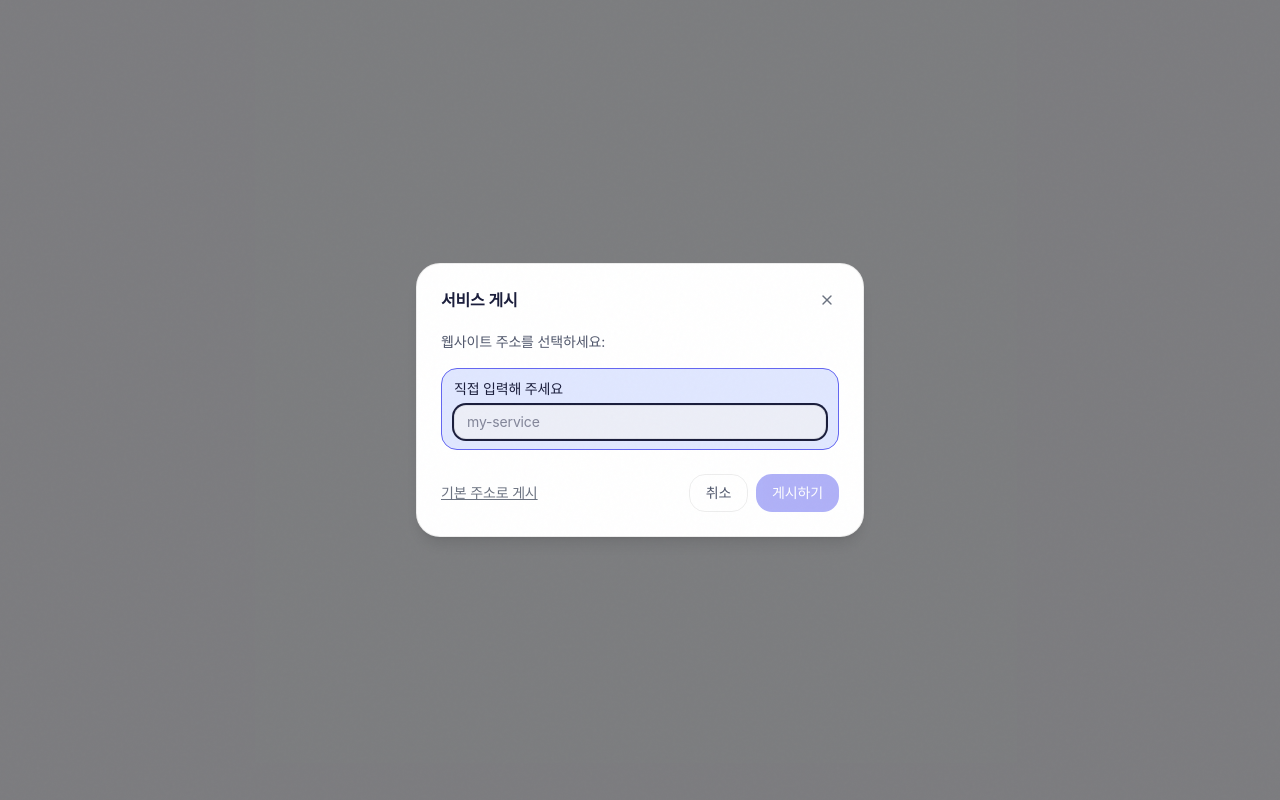
Test: PublishDialog › 게시 실패 › 재시도가 성공하면 이전 에러 문구가 사라진다
Click the button "기본 주소로 게시": (489, 493) [441,483,538,503]
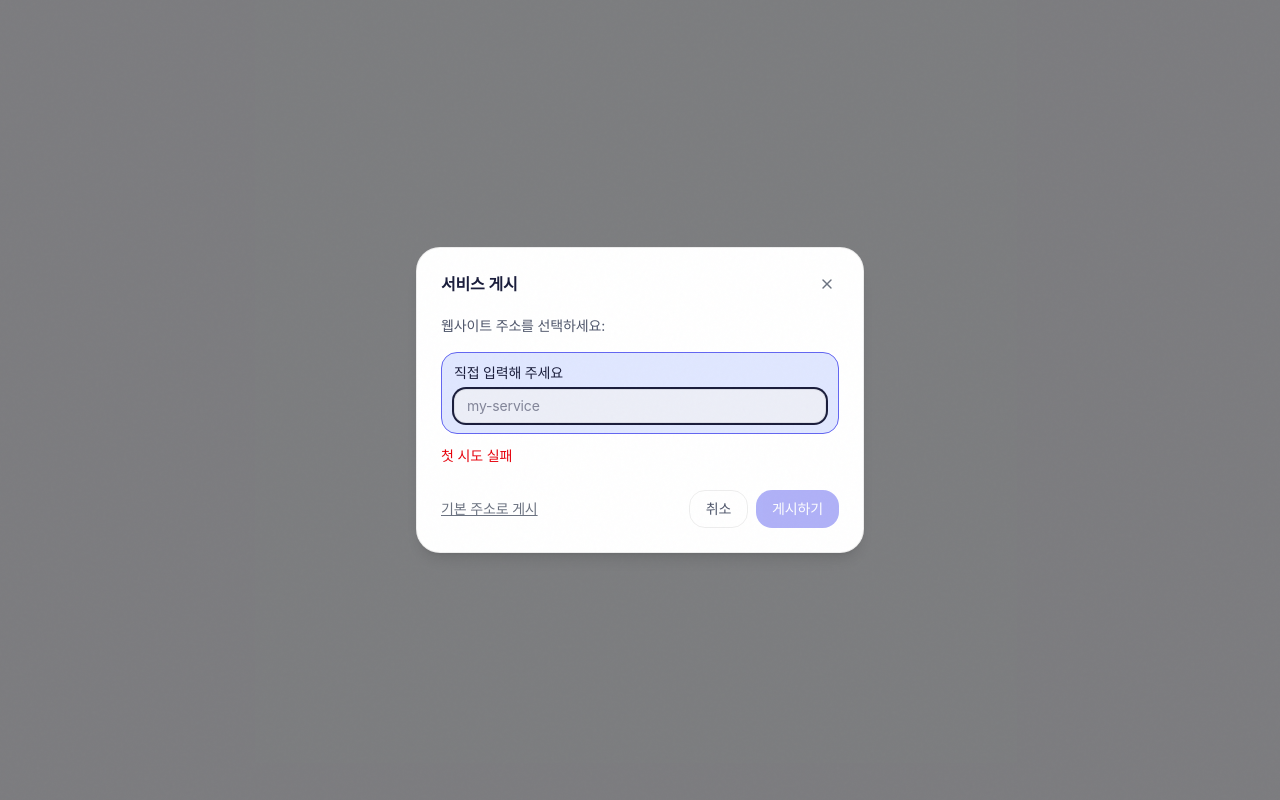
expect the text "첫 시도 실패" is shown: met, box [441,447,512,464]
Click the button "기본 주소로 게시": (489, 509) [441,499,538,519]
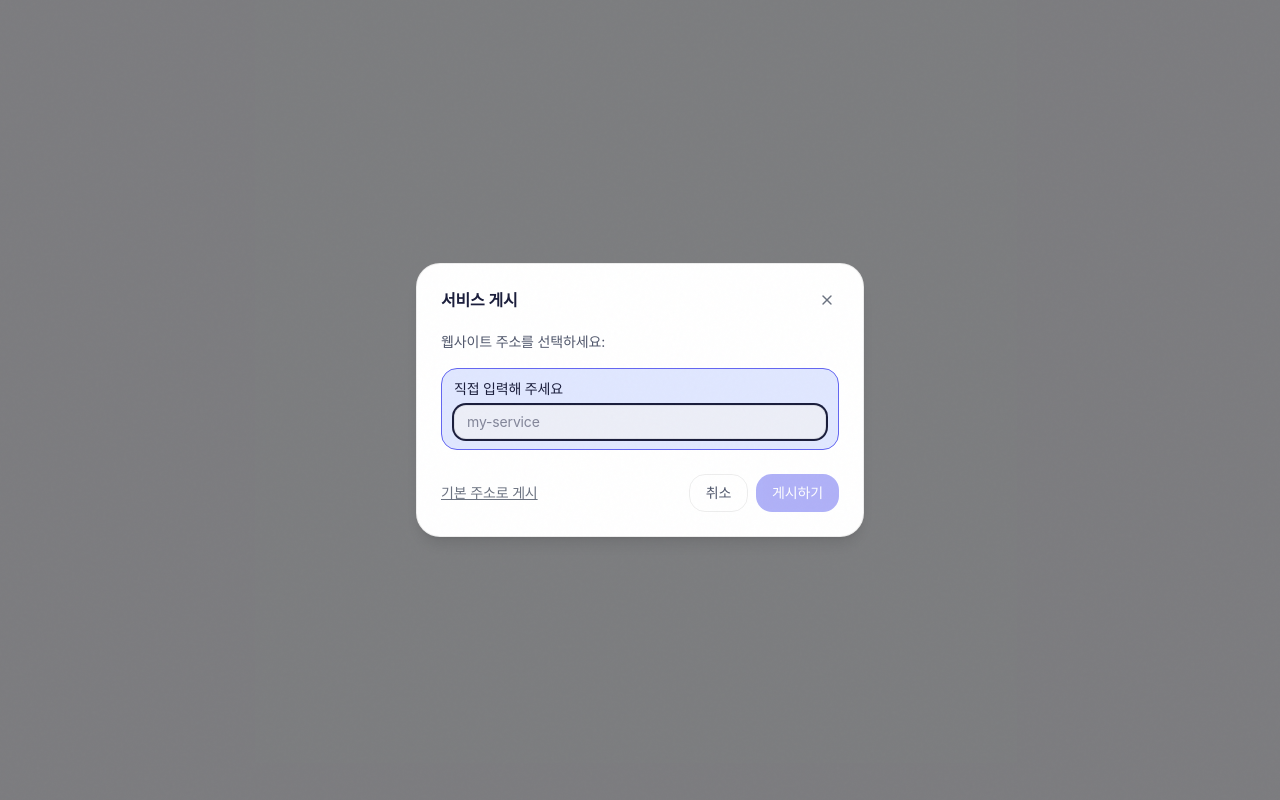
expect the text "첫 시도 실패" is gone: met
